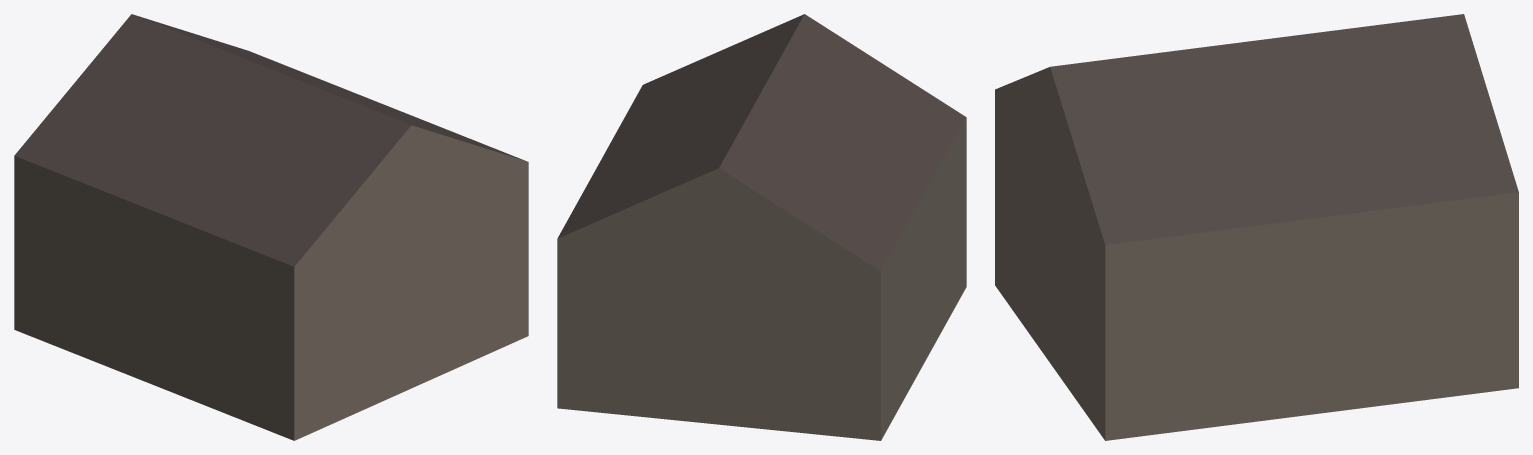
3 views of the same model, side by side, from view 1: azimuth 30°, elevation 25°; view 2: azimuth 150°, elevation 25°; view 3: azimuth 270°, elevation 25° (orthographic). The views are drawn at different scales.
Visible parts, largest first — view 1: HP-w446937274; view 2: HP-w446937274; view 3: HP-w446937274.
Part boxes in pixels (box(x1,y1,x2,y2)): HP-w446937274: box(14, 14, 528, 440); HP-w446937274: box(557, 14, 966, 440); HP-w446937274: box(995, 14, 1518, 440).
Size of the model in its own units: 13.69 by 9.08 by 14.55.
